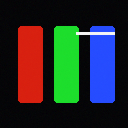3 line_h: (76, 32, 114, 34)
